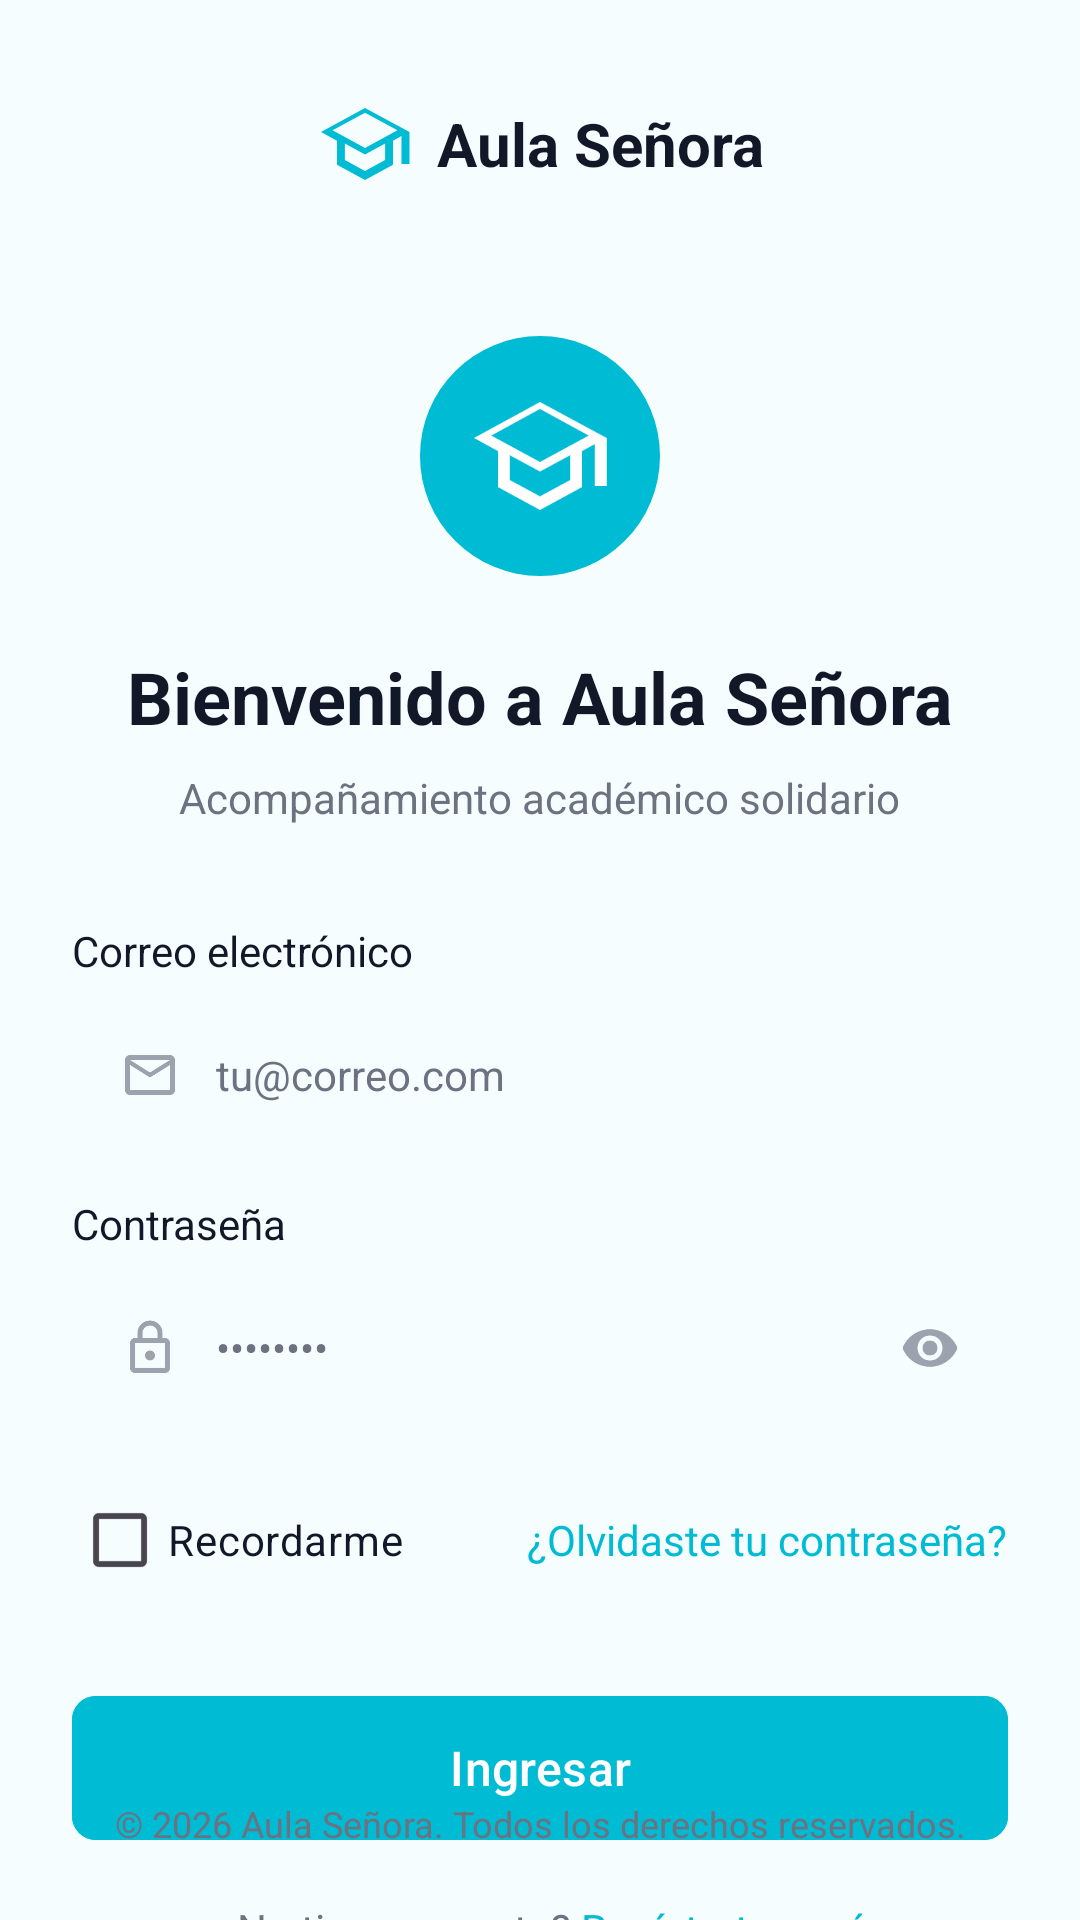

Icon click points for this 1080w x 1920h phone screenshot, format point (x, y):
email: point (150, 1075)
eye: point (930, 1348)
lock: point (150, 1346)
